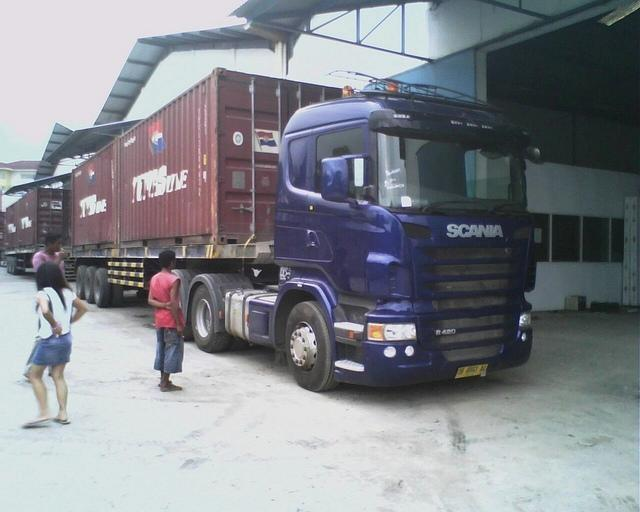truck: (64, 66, 546, 398)
